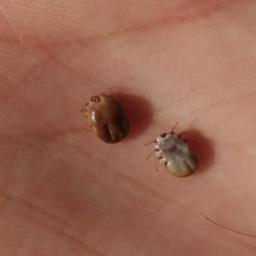Rhipicephalus sanguineus: (145, 123, 199, 179), (80, 94, 129, 144)
